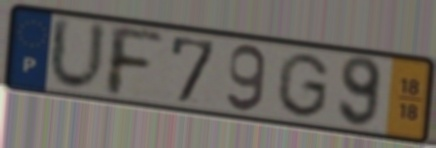7: (167, 34, 219, 104)
9: (335, 54, 384, 133), (225, 41, 268, 113)
F: (106, 22, 167, 100)
G: (273, 50, 332, 120)
U: (46, 13, 109, 94)
